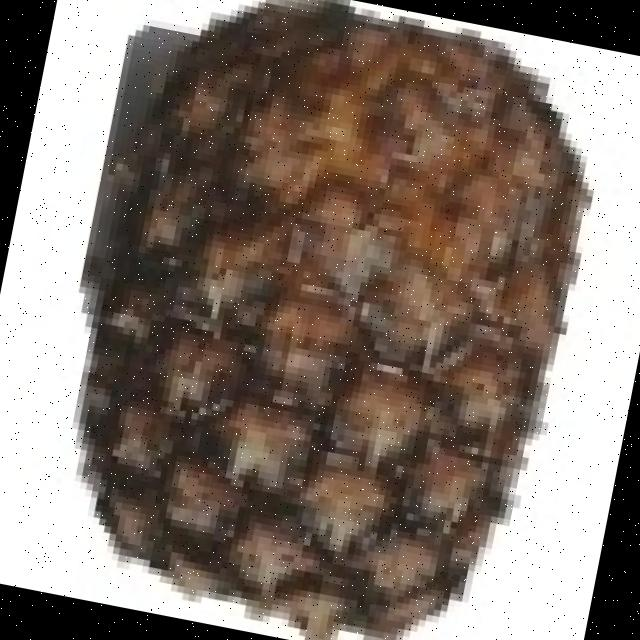pineapple: (95, 24, 596, 640)
